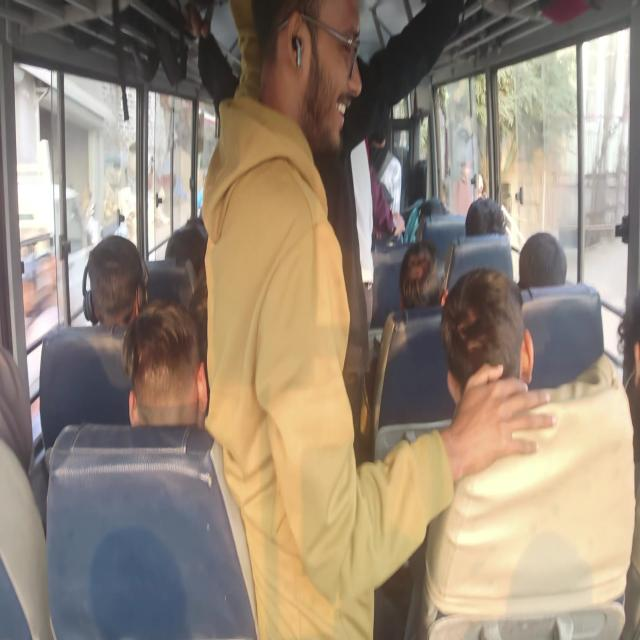person: (201, 0, 556, 638), (415, 266, 636, 638), (440, 266, 529, 406), (121, 297, 208, 428), (85, 234, 148, 328), (398, 240, 444, 310), (518, 230, 567, 288), (465, 196, 506, 236)
